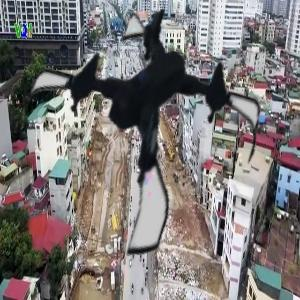drone: (14, 3, 268, 257)
